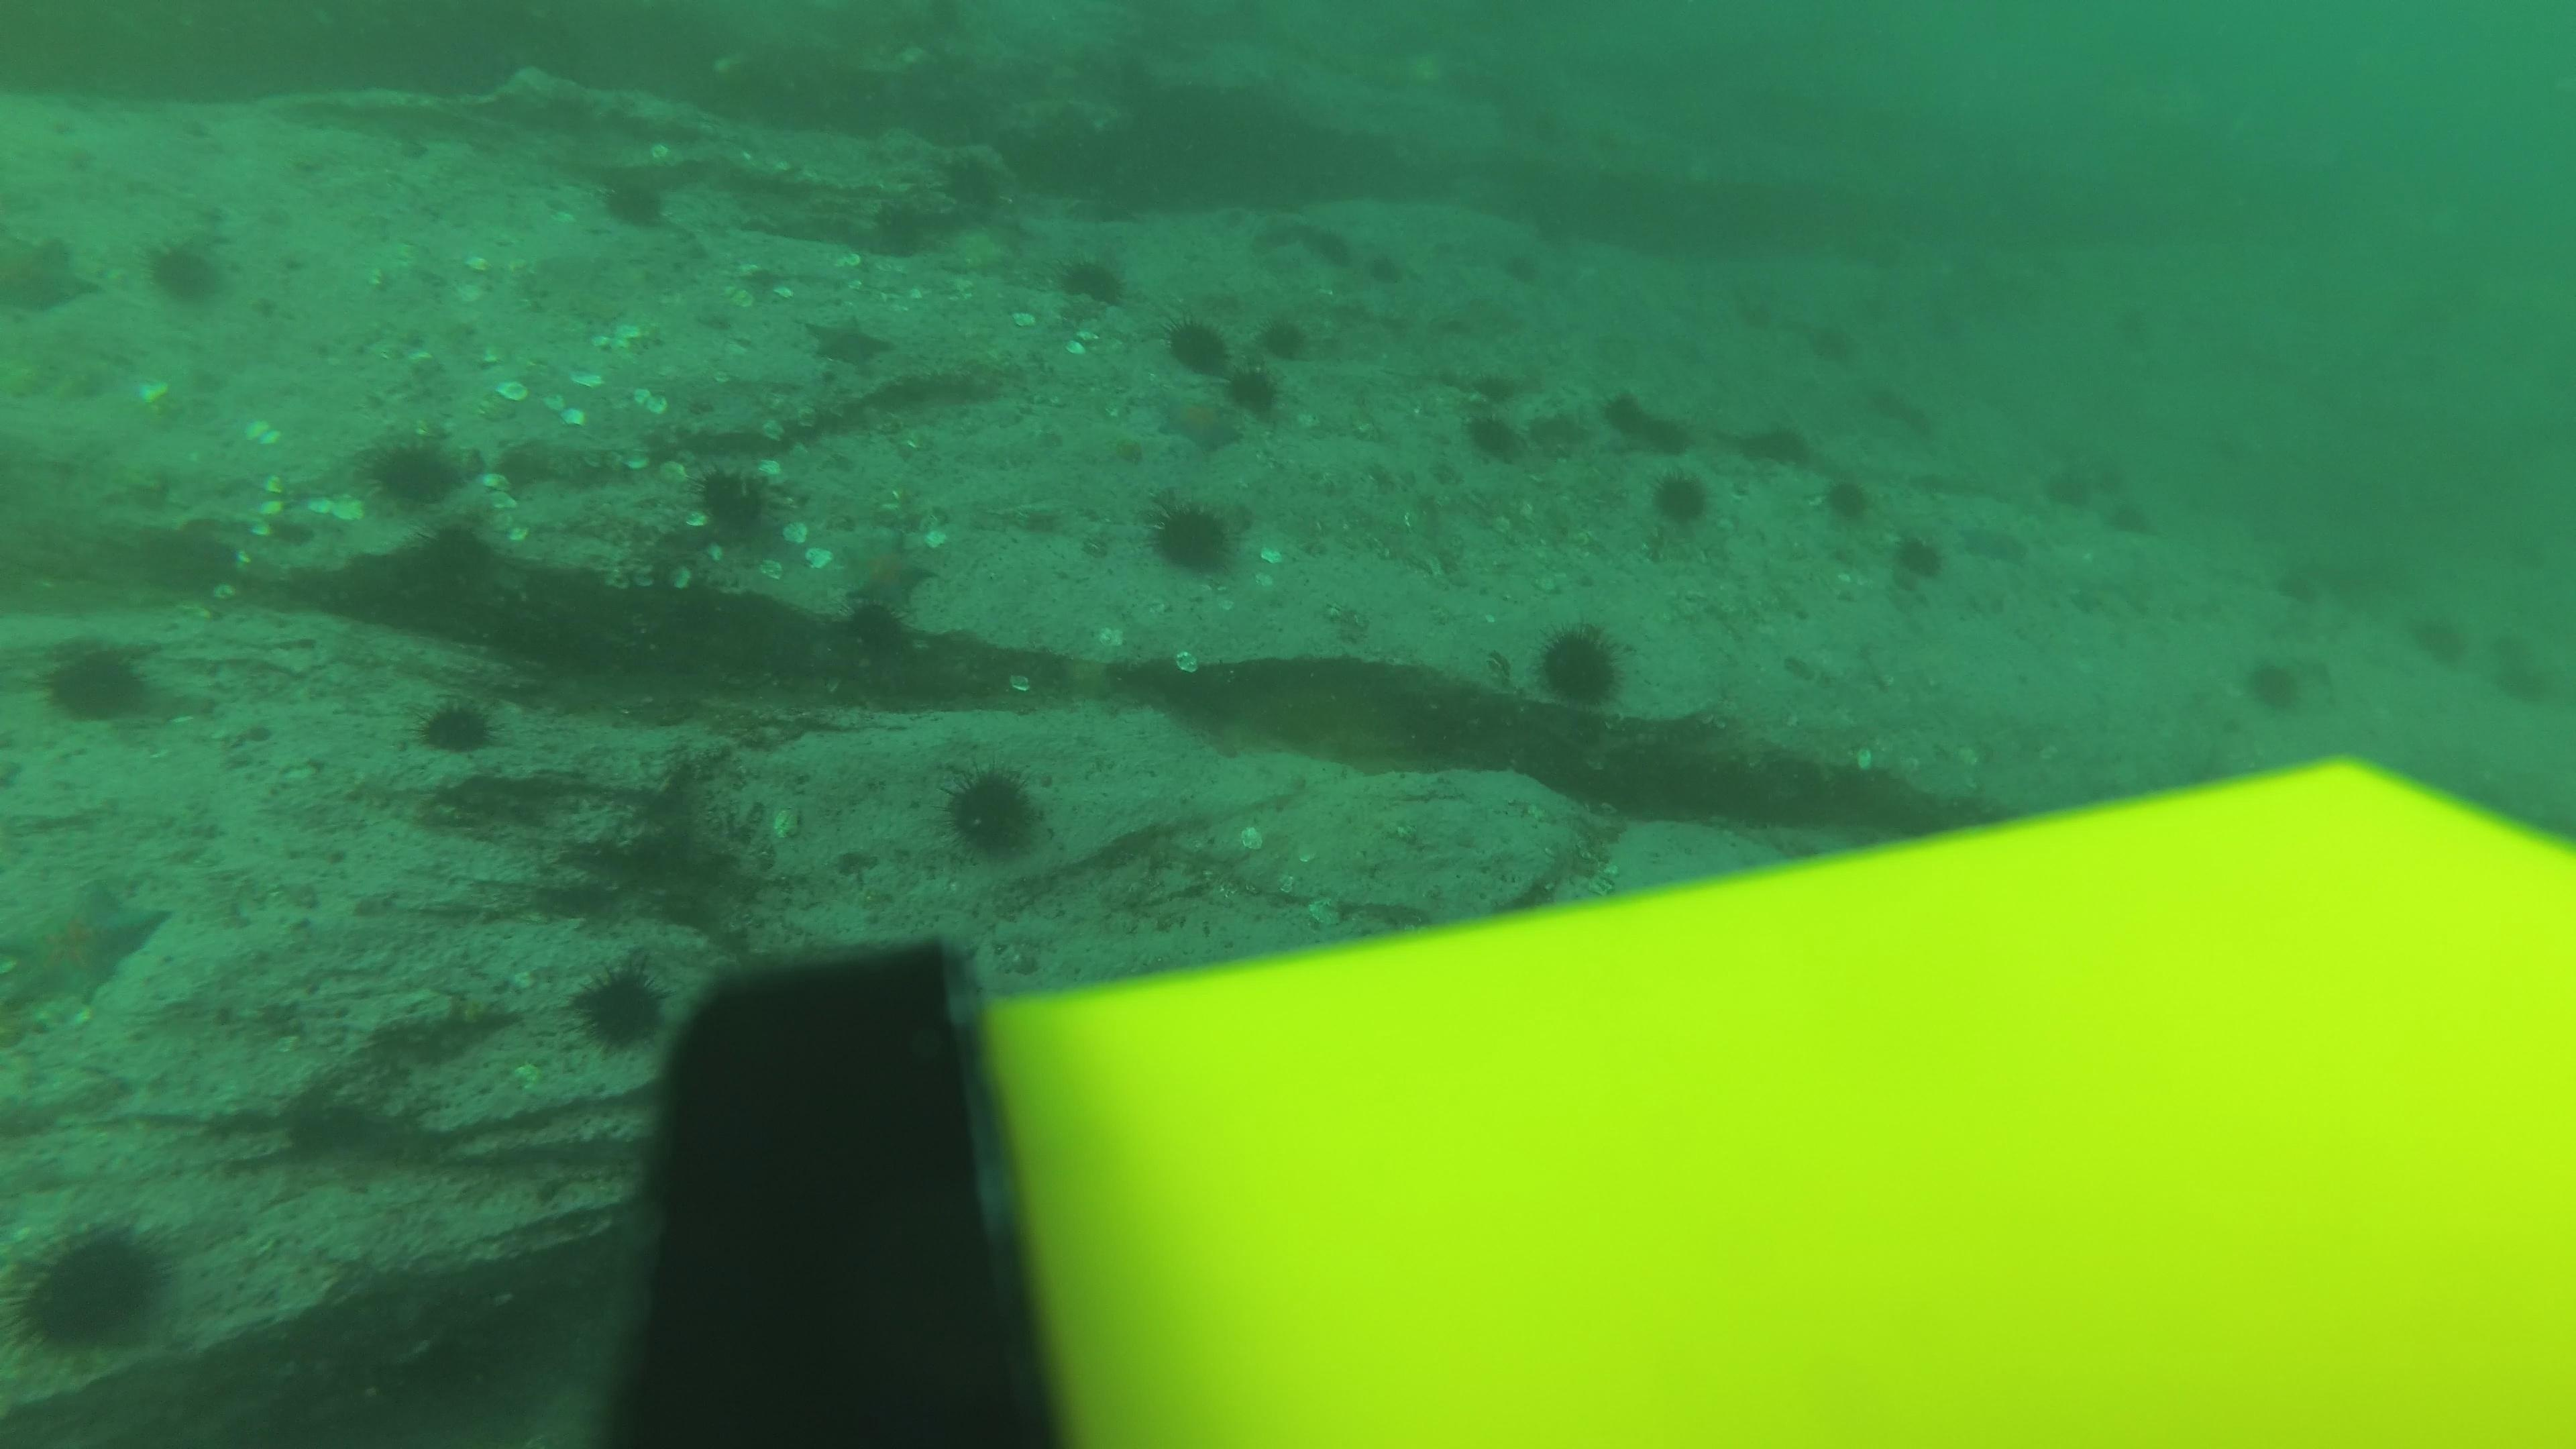echinus: (7, 1214, 179, 1361), (32, 630, 166, 732), (932, 759, 1053, 865), (352, 425, 479, 518), (564, 955, 678, 1060), (683, 456, 796, 557), (1139, 492, 1251, 586), (1527, 619, 1633, 715), (916, 143, 1016, 230), (140, 228, 235, 311), (405, 686, 510, 763), (587, 159, 681, 237), (1162, 311, 1253, 391), (1642, 464, 1720, 536), (2491, 655, 2567, 725), (2403, 612, 2479, 683), (2256, 557, 2332, 628), (1049, 248, 1132, 311), (2238, 649, 2312, 720), (1456, 400, 1532, 467), (1884, 525, 1950, 591), (1813, 467, 1879, 531), (2088, 494, 2160, 545), (2031, 460, 2104, 511), (1253, 310, 1313, 370), (1233, 361, 1288, 419), (1644, 421, 1690, 464), (1898, 400, 1946, 441), (1596, 393, 1644, 433), (2112, 299, 2160, 340), (1468, 370, 1516, 410), (1870, 384, 1916, 425), (1806, 324, 1852, 364), (1497, 244, 1543, 285), (1361, 253, 1407, 294)
starfish: (2, 870, 173, 1014), (0, 226, 97, 322), (835, 529, 943, 612), (1145, 386, 1251, 458), (800, 311, 895, 372), (1957, 517, 2035, 570)
